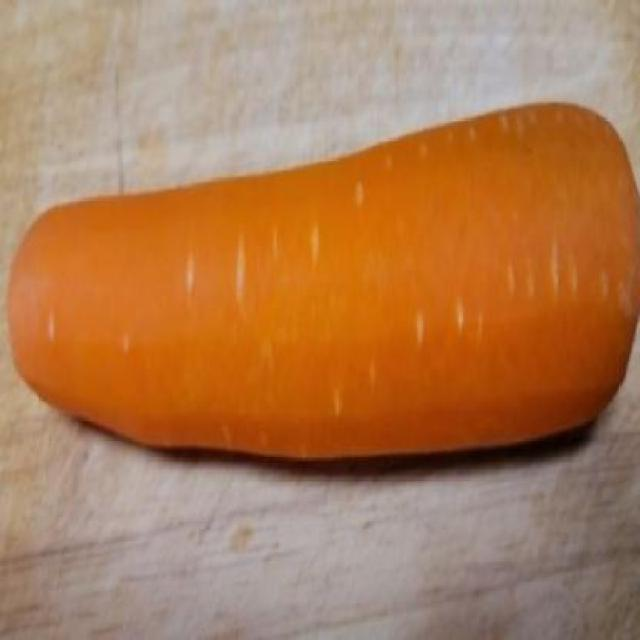Carrot: (9, 105, 640, 458)
